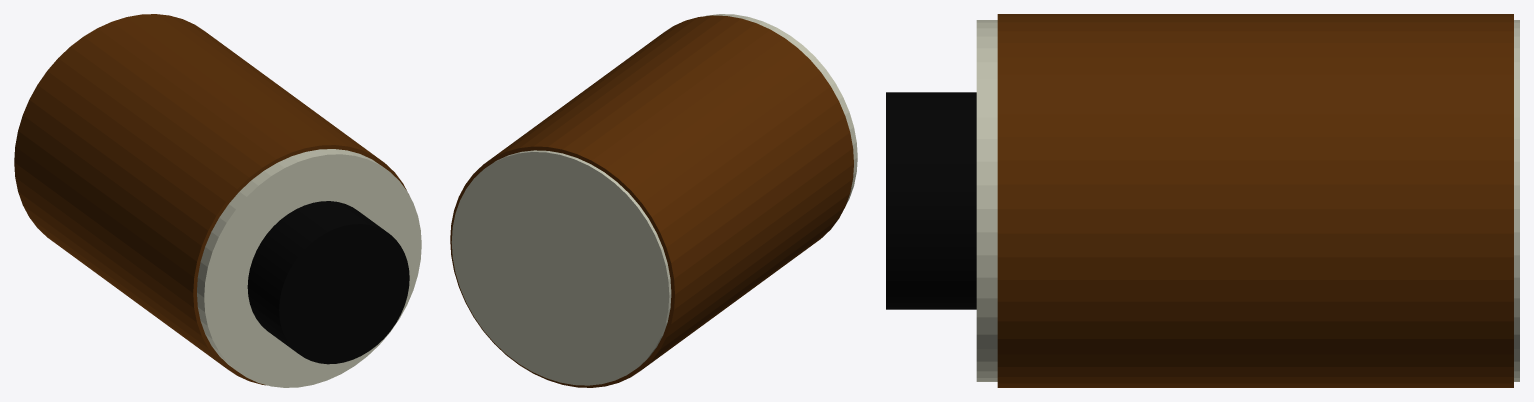
The model's file is grease_collector_full.obj.
3 renders of one model, left to right at view 1: azimuth 30°, elevation 25°; view 2: azimuth 150°, elevation 25°; view 3: azimuth 270°, elevation 25°, orthographic. The views are drawn at different scales.
Parts seen in each view (by area): view 1: grease_collector_full; view 2: grease_collector_full; view 3: grease_collector_full.
Boxes of the visible parts, x1=… form: grease_collector_full: x1=14, y1=14, x2=421, y2=387; grease_collector_full: x1=450, y1=14, x2=857, y2=387; grease_collector_full: x1=886, y1=14, x2=1519, y2=387.
Size of the model in its own units: 0.124 by 0.124 by 0.21.
